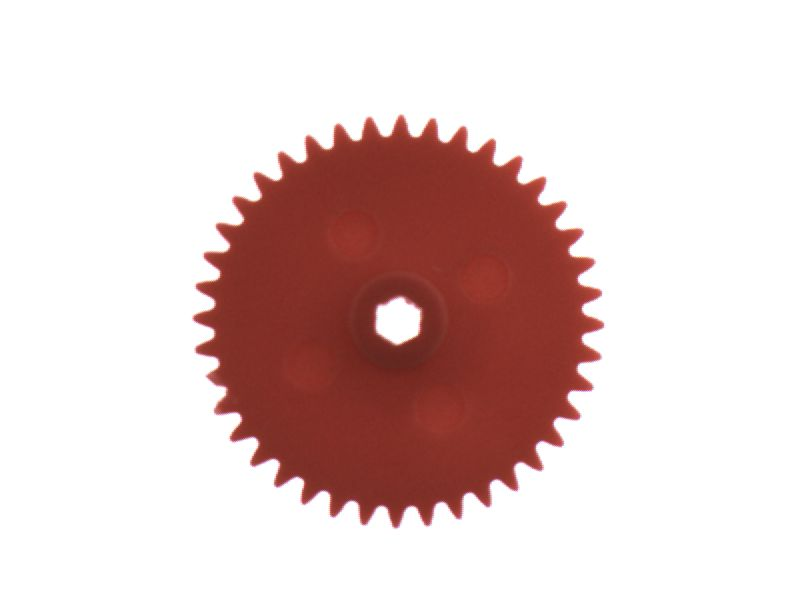defect_break: (182, 357, 247, 399)
